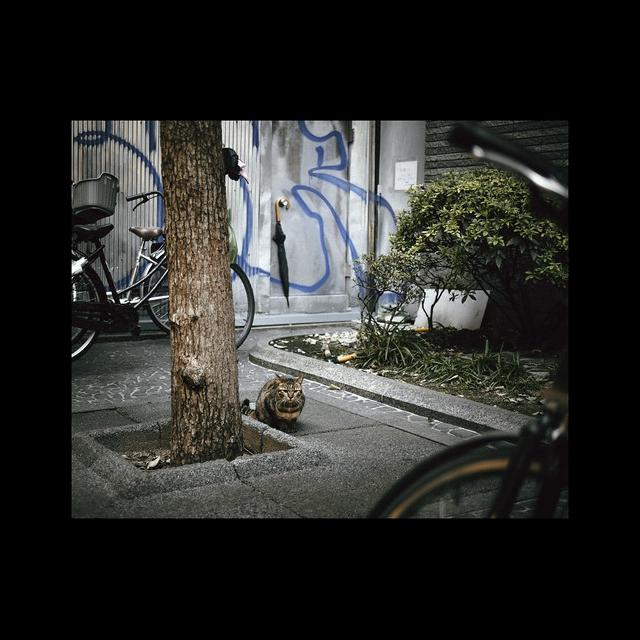animals: (256, 373, 307, 431)
